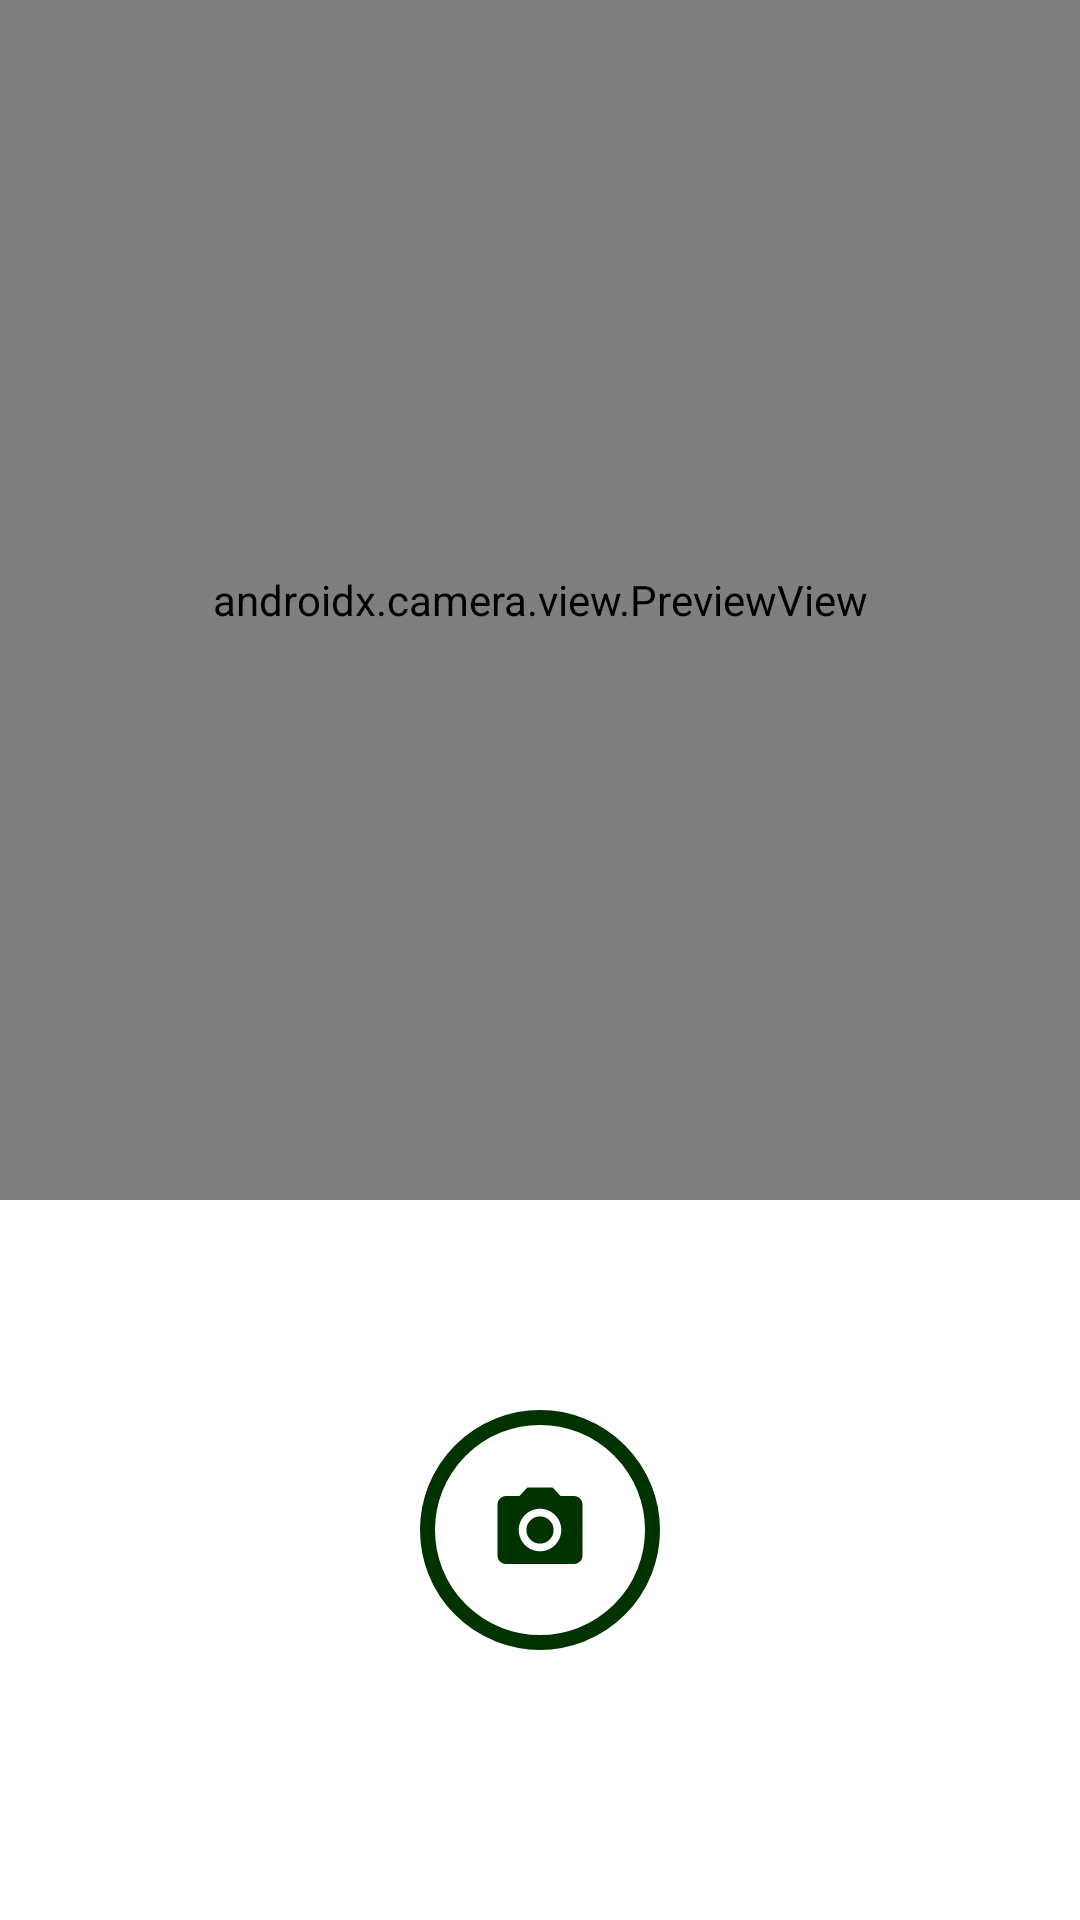

Point at icon controls on the screen. Image size 1080x1920, points as [x,y].
camera: [540,1530]
